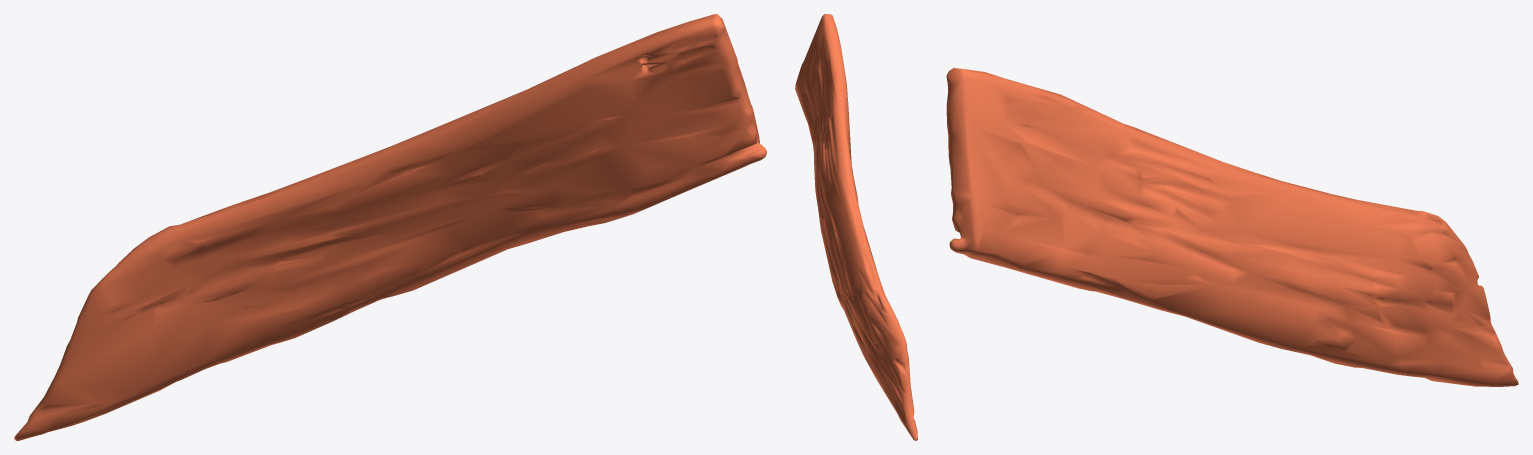
File: Teres_major_left.glb
3 renders of one model, left to right at view 1: azimuth 30°, elevation 25°; view 2: azimuth 150°, elevation 25°; view 3: azimuth 270°, elevation 25°, orthographic. The views are drawn at different scales.
Visible parts, largest first — view 1: Teres_major_muscle.l_Generated_Mesh_From_X3D.160; view 2: Teres_major_muscle.l_Generated_Mesh_From_X3D.160; view 3: Teres_major_muscle.l_Generated_Mesh_From_X3D.160.
Boxes of the visible parts, box(x1,y1,x2,y2) form: Teres_major_muscle.l_Generated_Mesh_From_X3D.160: box(14, 14, 766, 440); Teres_major_muscle.l_Generated_Mesh_From_X3D.160: box(795, 14, 917, 440); Teres_major_muscle.l_Generated_Mesh_From_X3D.160: box(946, 68, 1518, 386).
Bounding box in the file's own units: 0.0857 × 0.086 × 0.0827.
